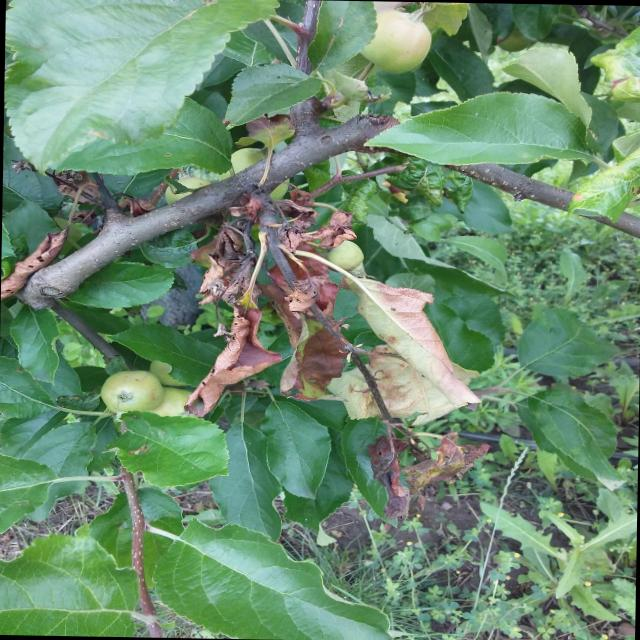-FireBlight-: (187, 179, 489, 517)
